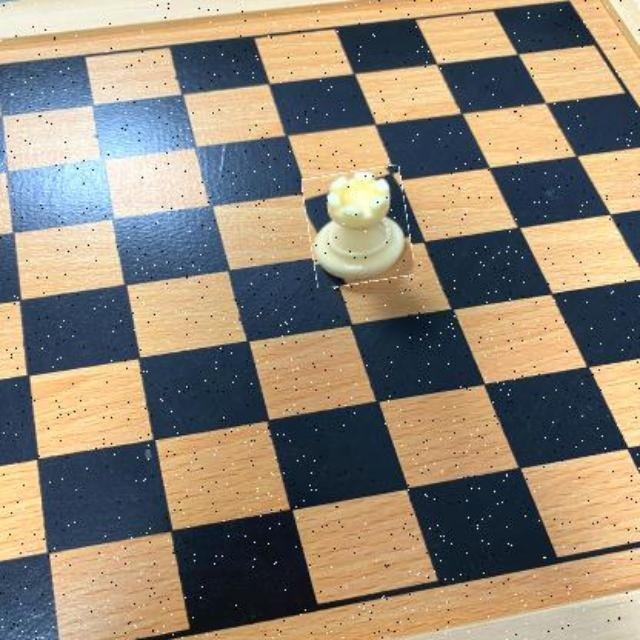white-rook: (305, 169, 411, 287)
